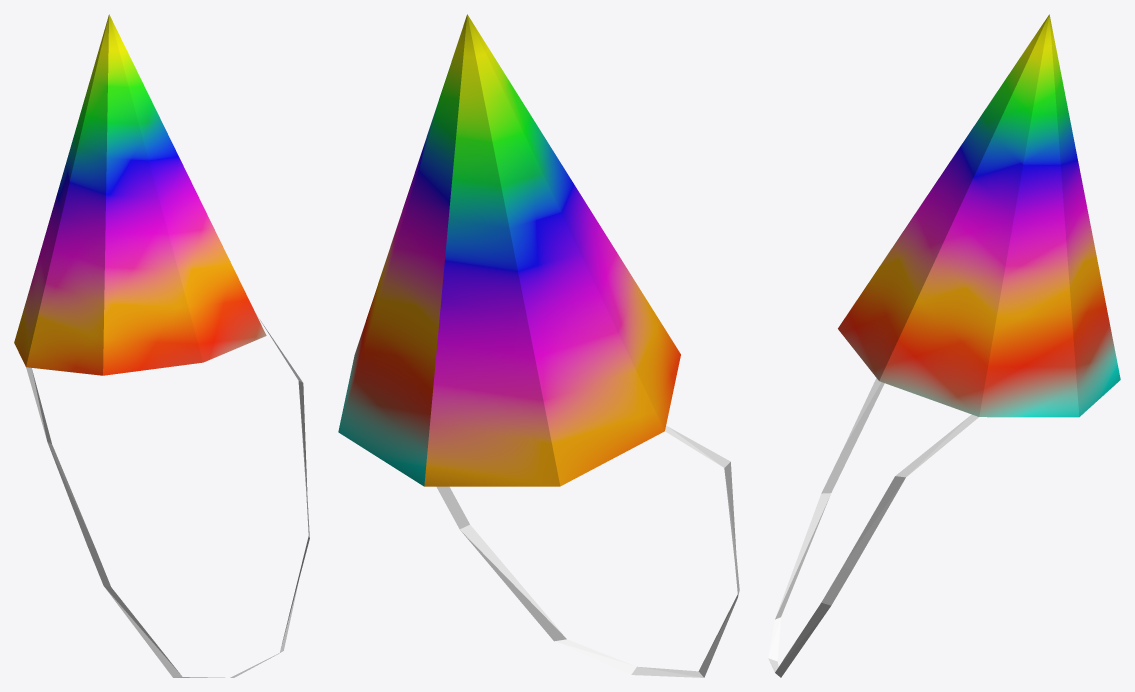
File: Party Hat.fbx
3 renders of one model, left to right at view 1: azimuth 30°, elevation 25°; view 2: azimuth 150°, elevation 25°; view 3: azimuth 270°, elevation 25°, orthographic. The views are drawn at different scales.
Parts seen in each view (by area): view 1: Cube; view 2: Cube; view 3: Cube.
Boxes of the visible parts, x1=… form: Cube: x1=14, y1=14, x2=309, y2=677; Cube: x1=338, y1=14, x2=739, y2=677; Cube: x1=768, y1=14, x2=1120, y2=677.
Bounding box in the file's own units: 24.19 × 52.94 × 26.13.
